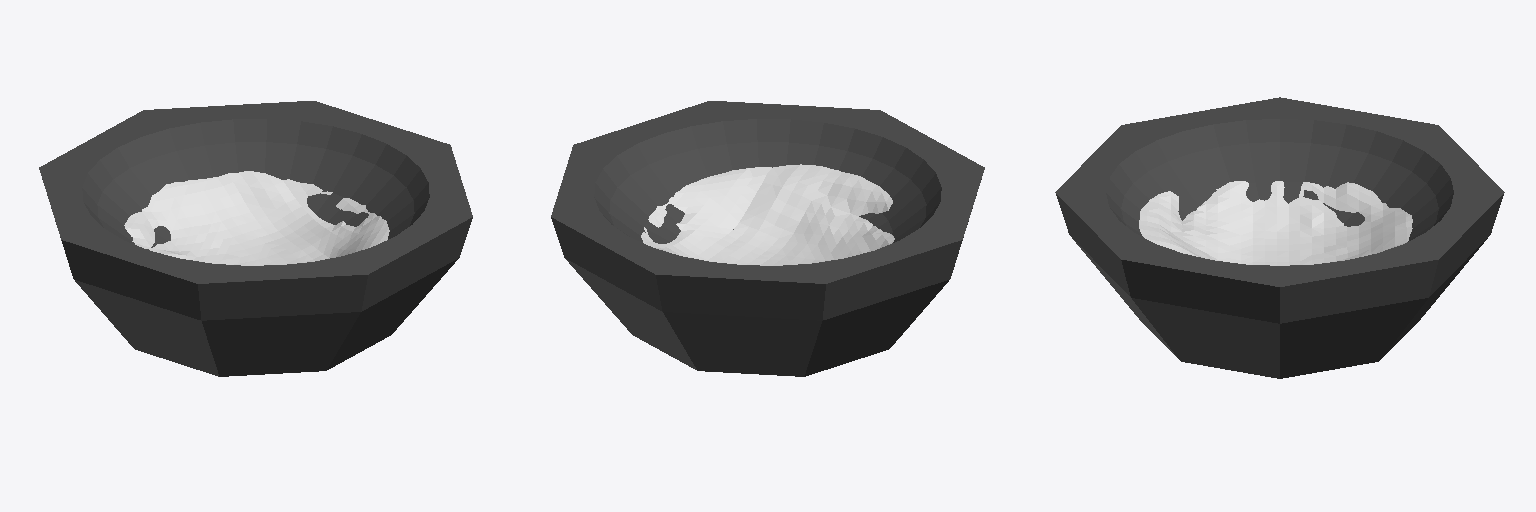
The model's file is product_on-agate_mortar.obj.
3 renders of one model, left to right at view 1: azimuth 30°, elevation 25°; view 2: azimuth 150°, elevation 25°; view 3: azimuth 270°, elevation 25°, orthographic.
Visible parts, largest first — view 1: agate_mortar, Plane001; view 2: agate_mortar, Plane001; view 3: agate_mortar, Plane001.
Part boxes in pixels (bbox=[...]): agate_mortar: bbox=[39, 101, 472, 376]; Plane001: bbox=[124, 171, 389, 265]; agate_mortar: bbox=[551, 101, 984, 376]; Plane001: bbox=[641, 164, 894, 265]; agate_mortar: bbox=[1055, 97, 1504, 378]; Plane001: bbox=[1139, 181, 1412, 265].
Size of the model in its own units: 62.99 by 19.68 by 62.99.